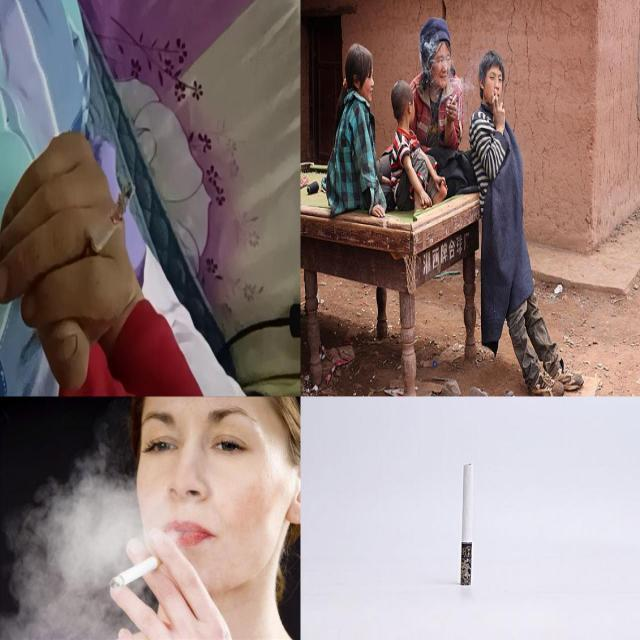smoking: (82, 180, 136, 264), (106, 552, 168, 589), (460, 462, 473, 588), (450, 94, 458, 105), (492, 95, 496, 102)
